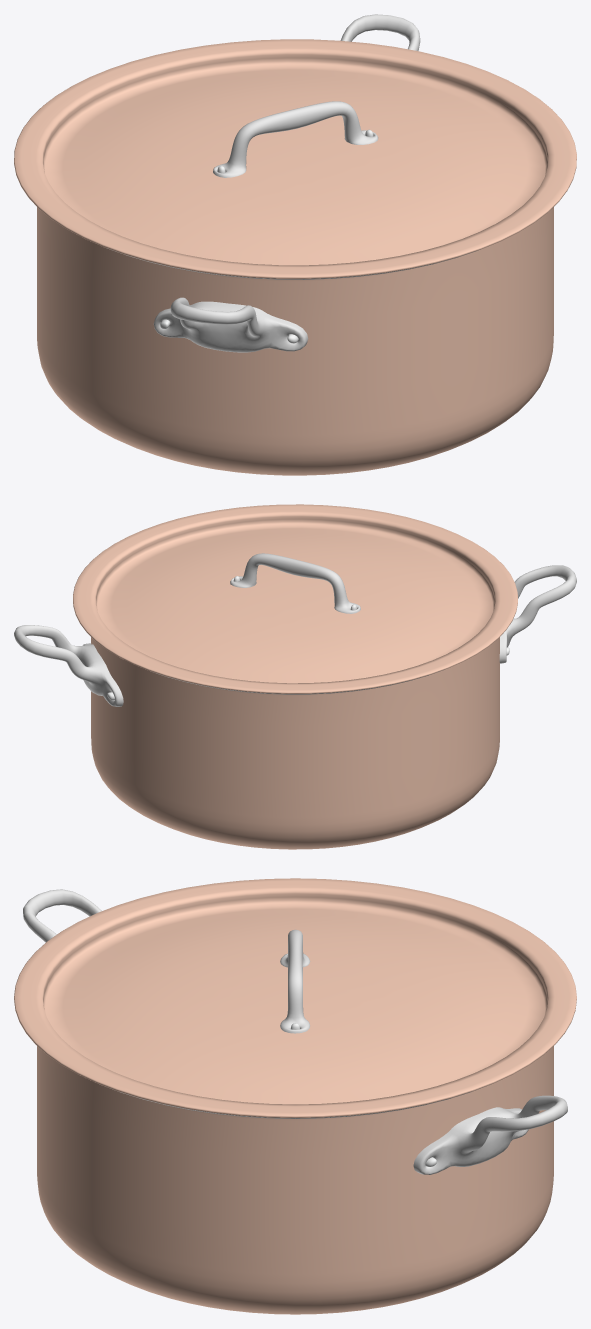
The model's file is CookingPot.fbx.
The picture shows the model from 3 angles, top to bottom: view 1: azimuth 30°, elevation 25°; view 2: azimuth 150°, elevation 25°; view 3: azimuth 270°, elevation 25°; orthographic projection. The views are drawn at different scales.
Visible parts, largest first — view 1: Lid, Pot 28cm, Cube.003, Lid Handle; view 2: Lid, Pot 28cm, Cube.003, Lid Handle; view 3: Lid, Pot 28cm, Cube.003, Lid Handle.
Boxes of the visible parts, x1,y1,x2,y2 form: Lid: (14, 39, 576, 278); Pot 28cm: (37, 207, 553, 475); Cube.003: (153, 14, 420, 352); Lid Handle: (213, 101, 378, 177); Lid: (73, 504, 517, 693); Pot 28cm: (91, 637, 499, 849); Cube.003: (14, 565, 576, 706); Lid Handle: (230, 553, 360, 613); Lid: (14, 878, 576, 1117); Pot 28cm: (37, 1046, 553, 1314); Cube.003: (23, 889, 567, 1174); Lid Handle: (280, 929, 310, 1033).
Size of the model in its own units: 55.7 by 29.63 by 55.7.
